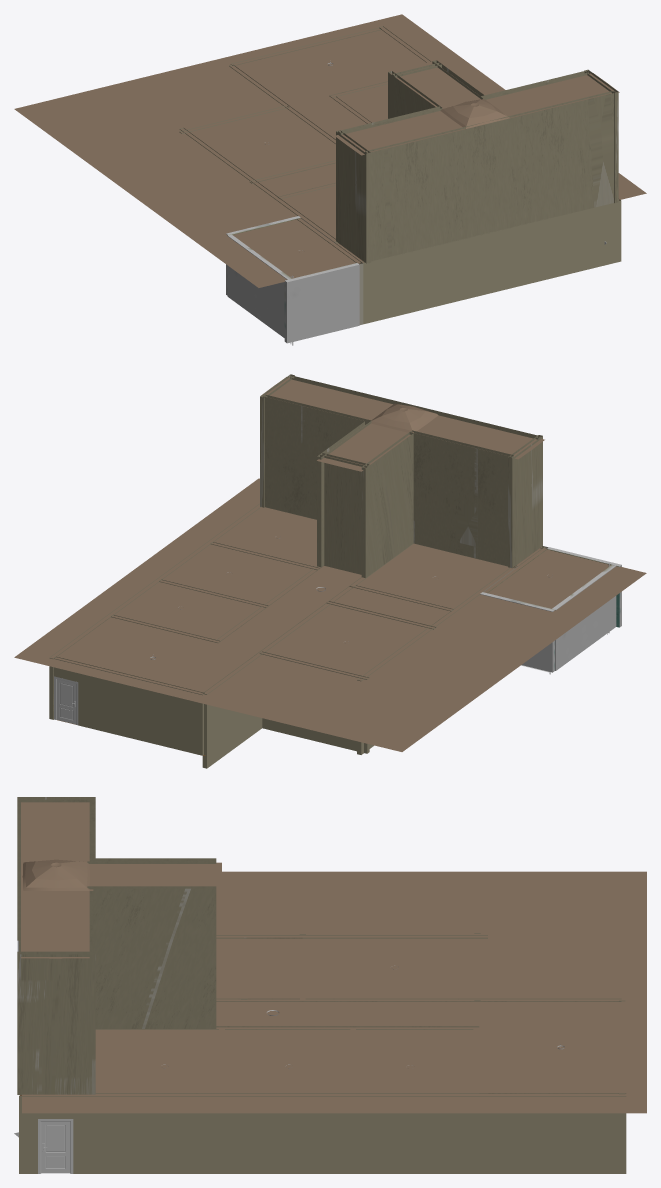
The model's file is Layout_Polish.fbx.
The picture shows the model from 3 angles, top to bottom: view 1: azimuth 30°, elevation 25°; view 2: azimuth 150°, elevation 25°; view 3: azimuth 270°, elevation 25°; orthographic projection. The views are drawn at different scales.
Visible parts, largest first — view 1: atap2, Cube__18__001__1_, Cube__18__001, Plane, Cube__8__001.002, Cube__18__001__7_.001, Cube__19__001, Cube__18__001__6_.001, Cube__18__001__1_.001, Cube__18__001__7_.002; view 2: atap2, Cube__18__001__1_.001, Plane, Cube__15__001, Cube__18__001__6_.001, Cube__18__001__5_, Cube__18__001__7_.001, Cube__16__001, Cube__19__001, Cube__2__001, Cube__18__001__6_.002, Cube__18__001__1_ (+4 smaller); view 3: atap2, Cube__7__001, Cube__18__001__6_.002, Plane, Cube__18__001__7_.002, Cube__3__001__4_, pintu_4, Cube__18__001__7_.001, Cube__16__001, Cube__3__001, Cube__18__001__6_.001.
Boxes of the visible parts, x1,y1,x2,y2 form: atap2: [14, 14, 646, 287]; Cube__18__001__1_: [365, 90, 615, 261]; Cube__18__001: [360, 199, 621, 324]; Plane: [334, 61, 619, 155]; Cube__8__001.002: [284, 263, 359, 343]; Cube__18__001__7_.001: [336, 130, 370, 263]; Cube__19__001: [227, 234, 291, 337]; Cube__18__001__6_.001: [388, 71, 440, 118]; Cube__18__001__1_.001: [338, 70, 588, 134]; Cube__18__001__7_.002: [584, 69, 618, 203]; atap2: [14, 478, 646, 751]; Cube__18__001__1_.001: [263, 394, 513, 565]; Plane: [261, 377, 544, 471]; Cube__15__001: [54, 656, 204, 755]; Cube__18__001__6_.001: [361, 432, 413, 578]; Cube__18__001__5_: [320, 453, 369, 574]; Cube__18__001__7_.001: [508, 435, 542, 568]; Cube__16__001: [202, 603, 330, 768]; Cube__19__001: [552, 565, 616, 670]; Cube__2__001: [259, 651, 369, 753]; Cube__18__001__6_.002: [317, 421, 369, 567]; Cube__18__001__1_: [290, 375, 540, 439]; atap2: [22, 871, 646, 1113]; Cube__7__001: [87, 1093, 626, 1173]; Cube__18__001__6_.002: [93, 886, 216, 1028]; Plane: [21, 802, 222, 958]; Cube__18__001__7_.002: [17, 951, 95, 1094]; Cube__3__001__4_: [25, 1096, 87, 1173]; pintu_4: [41, 1121, 69, 1173]; Cube__18__001__7_.001: [17, 797, 95, 940]; Cube__16__001: [306, 998, 621, 1001]; Cube__3__001: [216, 935, 487, 938]; Cube__18__001__6_.001: [93, 858, 216, 863].
Size of the model in its own units: 2127 by 1001 by 2353.
